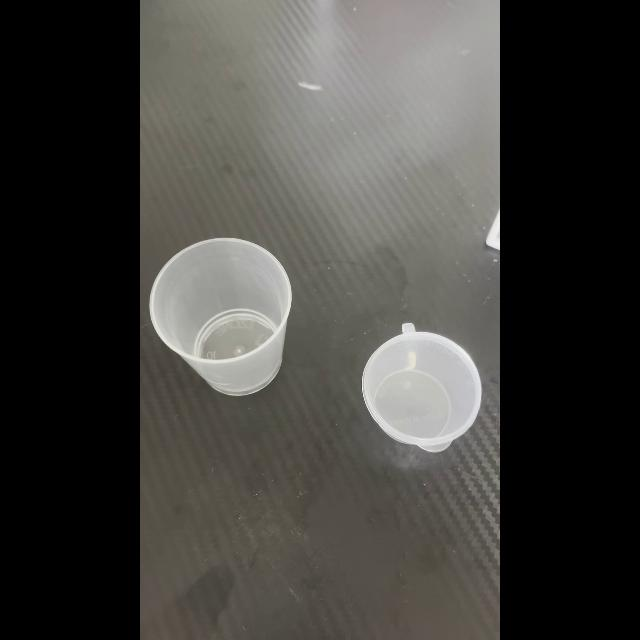clean: (149, 238, 293, 392), (360, 327, 482, 451)
